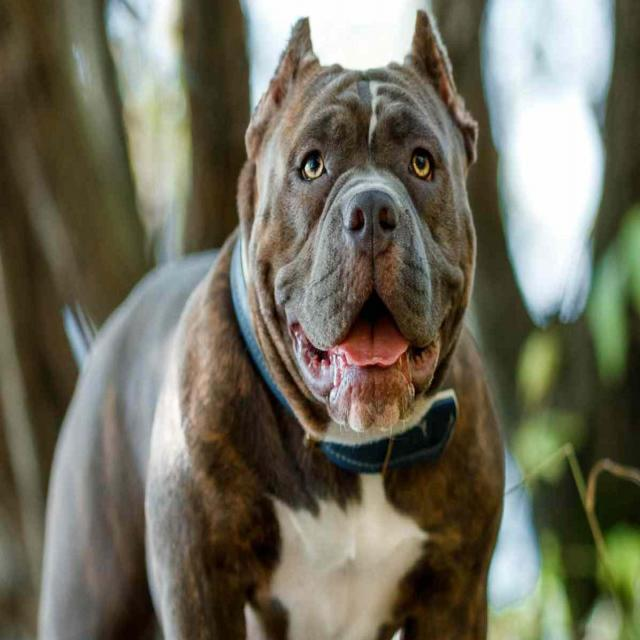dogs: (36, 13, 506, 640)
